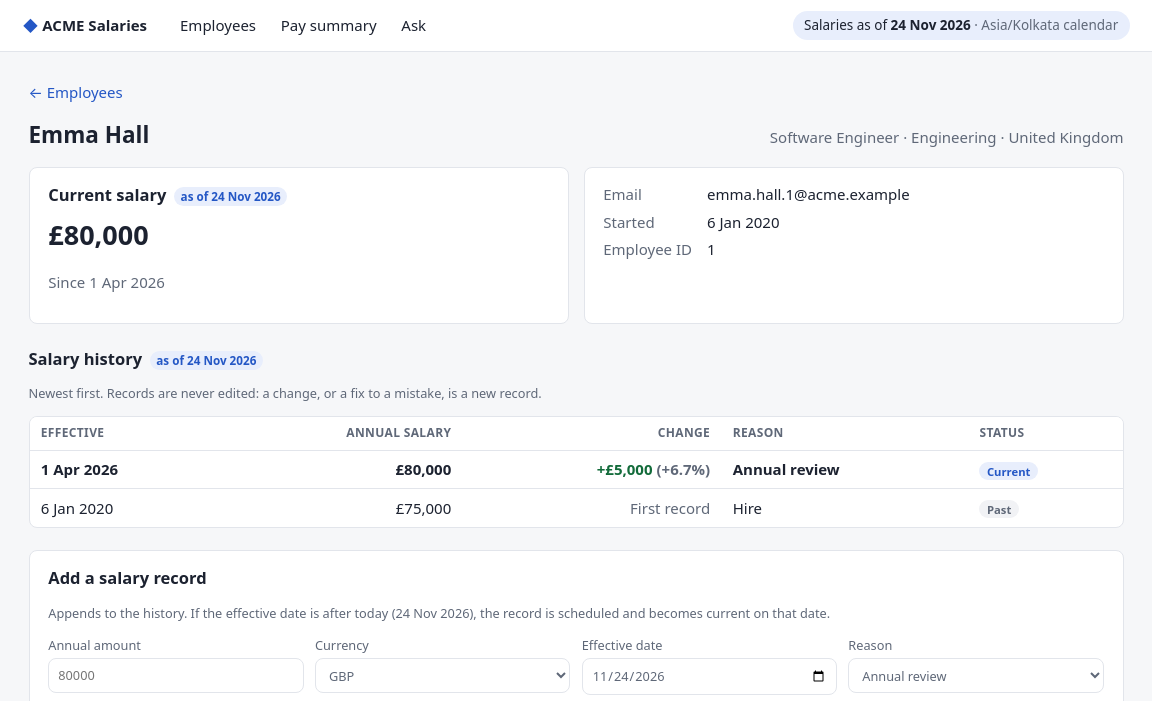
Test: add salary record form › does not post an invalid amount
This screenshot has width=1152, height=701.
Expected: the heading "Emma Hall" is shown, [28,118,149,152]
Type "85k" into the field labelled "Annual amount" at (176, 675), box [48,658,304,692]
(page scrolled)
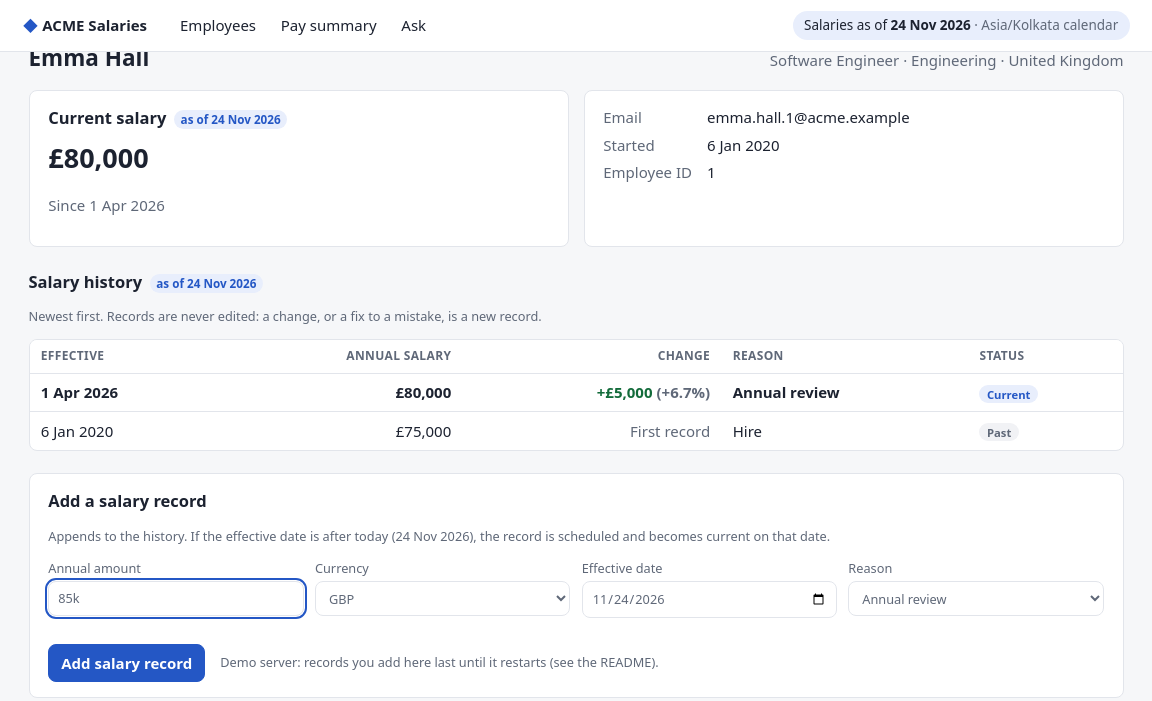
Click the button "Add salary record" at (127, 663), box [48,644,205,682]
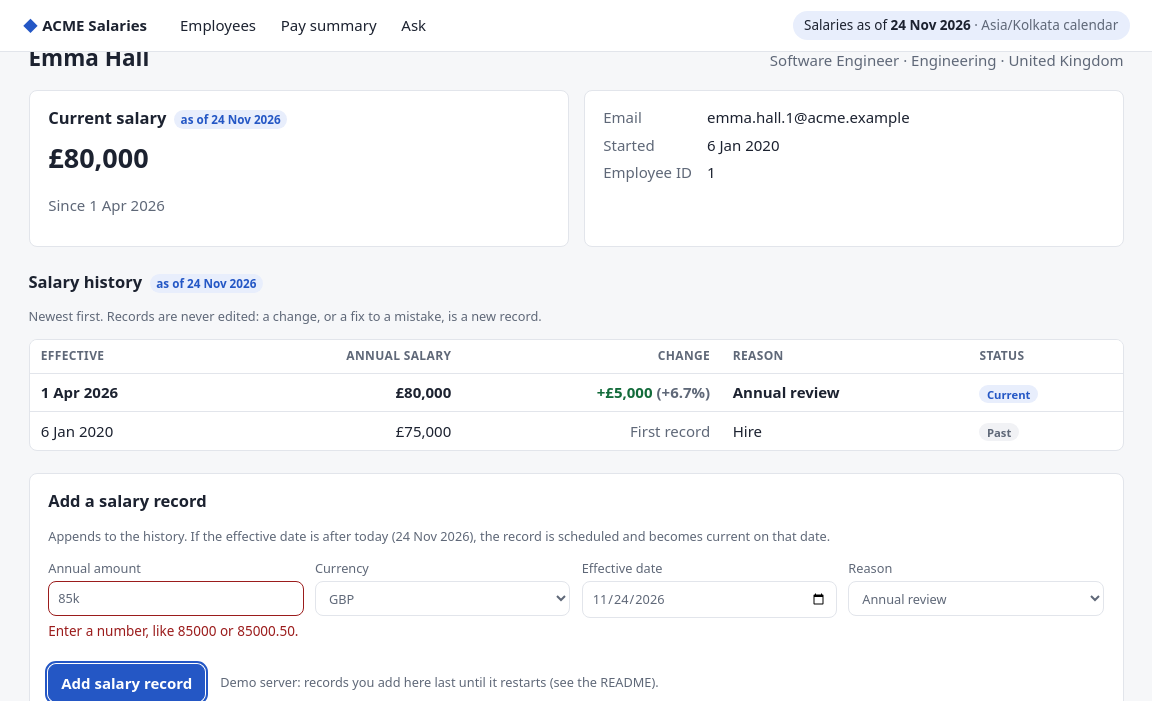
Expected: the text "Enter a number, like 85000 or 85000.50." is shown, [48,622,299,640]
Select "JPY" in the dropdown labelled "Currency" at (443, 599), box [315,581,570,616]
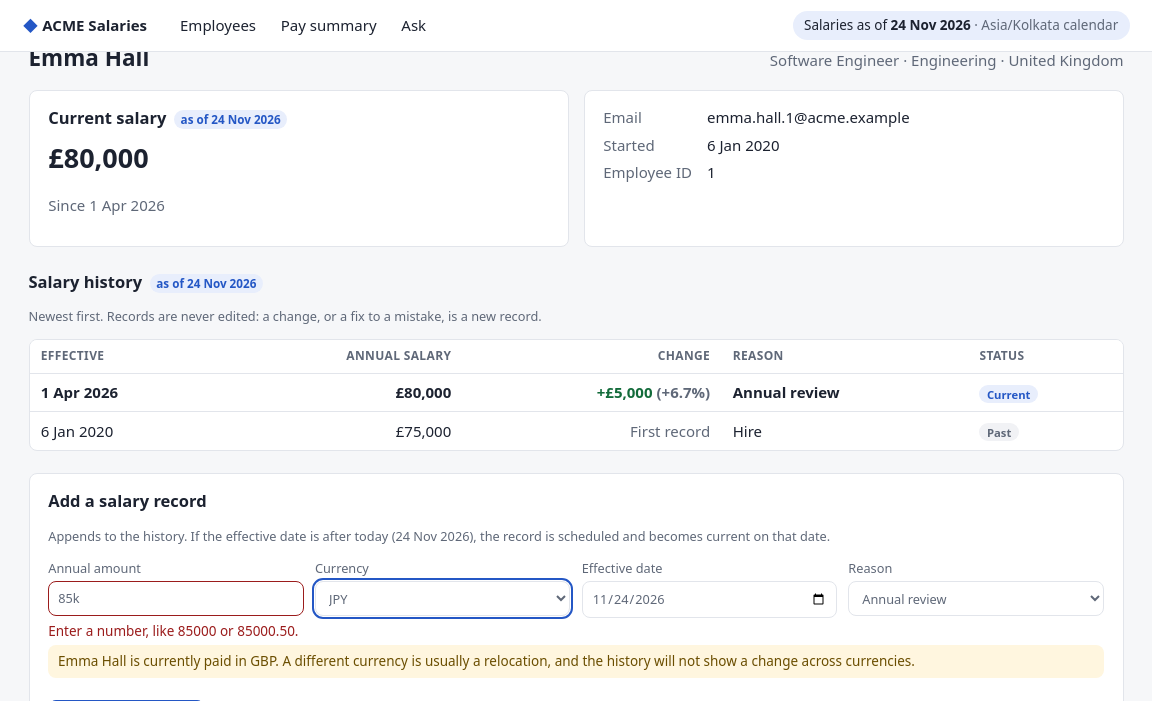
Replace the text in the field labelled "Annual amount" with "1000.5" at (176, 598), box [48,581,304,616]
(page scrolled)
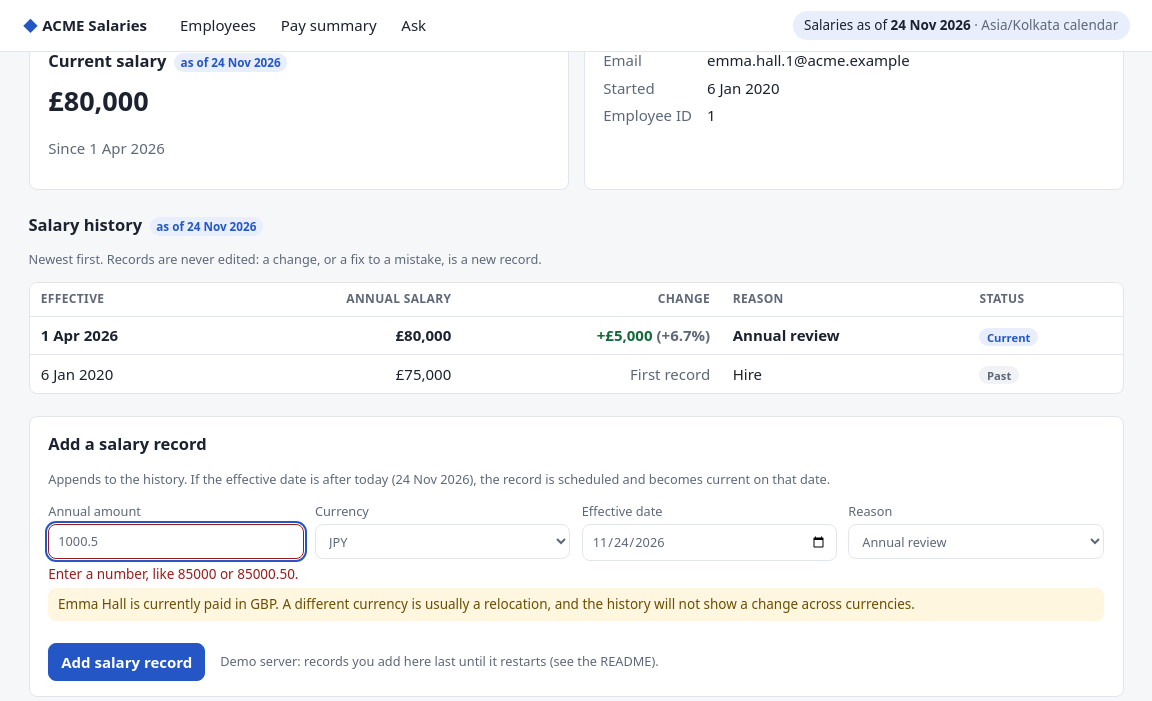
Click the button "Add salary record" at (127, 662), box [48,643,205,681]
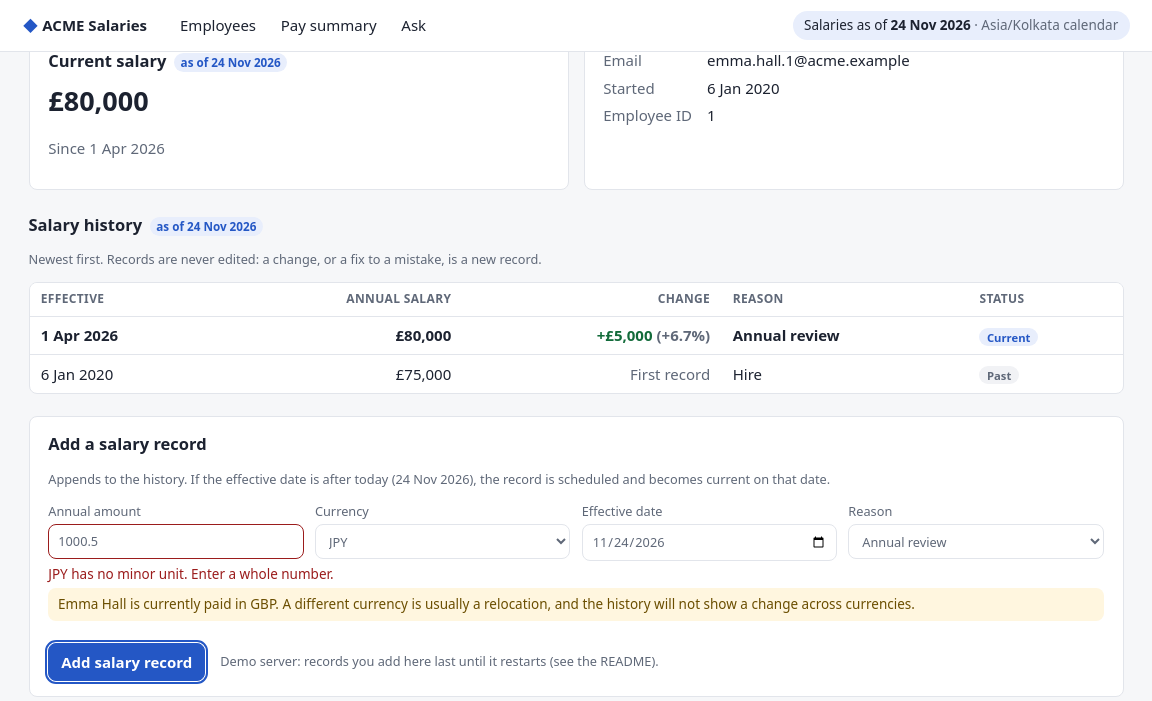
Expected: the text "JPY has no minor unit. Enter a whole number." is shown, [48,565,334,583]
